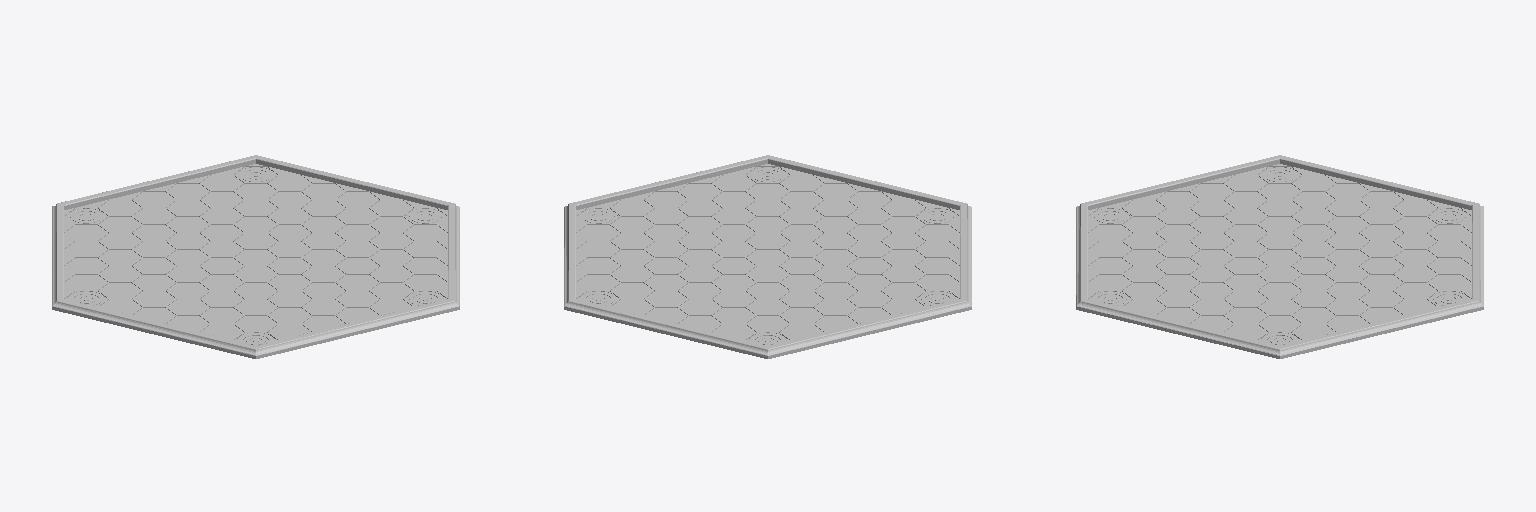
Rendered from Board.obj.
3 views of the same model, side by side, from view 1: azimuth 30°, elevation 25°; view 2: azimuth 150°, elevation 25°; view 3: azimuth 270°, elevation 25° (orthographic).
Parts seen in each view (by area): view 1: board-single; view 2: board-single; view 3: board-single.
Part boxes in pixels (bbox=[...]): board-single: bbox=[52, 155, 459, 358]; board-single: bbox=[564, 155, 971, 358]; board-single: bbox=[1076, 155, 1483, 358].
Size of the model in its own units: 40.3 by 0.7495 by 34.9.